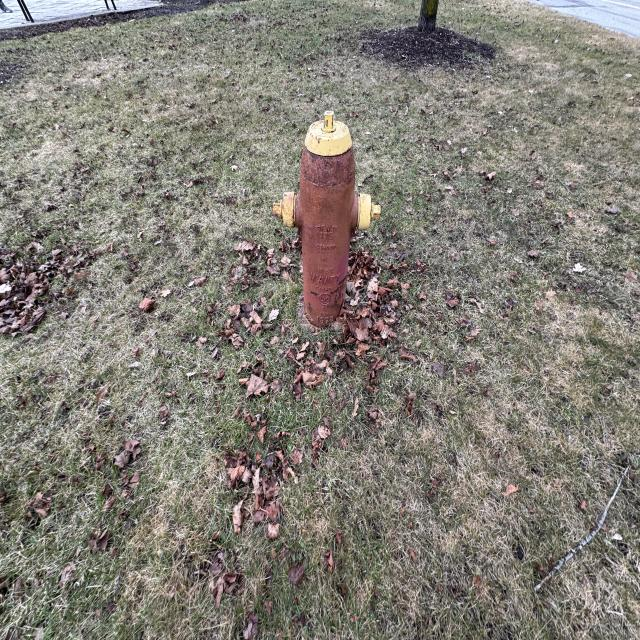Fire hydrant: (272, 110, 382, 338)
